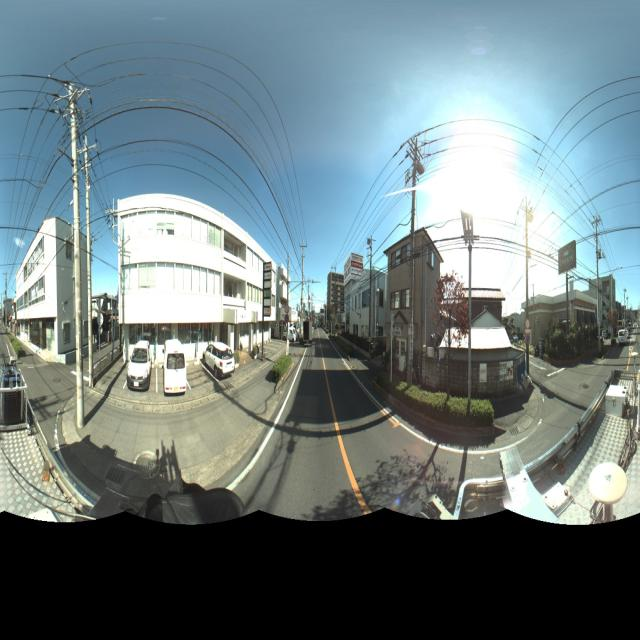b_1: (105, 185, 280, 398), (12, 217, 93, 356), (379, 224, 440, 379), (520, 284, 596, 337), (346, 259, 385, 348), (588, 261, 619, 353), (318, 266, 348, 339), (276, 262, 296, 349)
